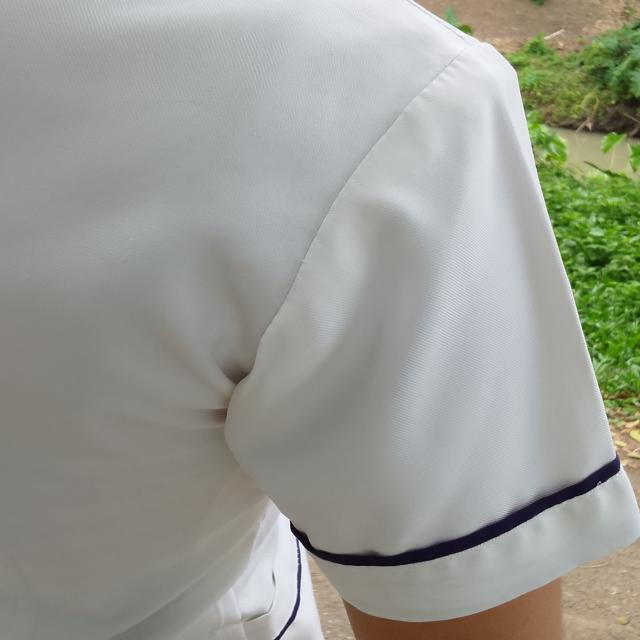education_female_uniform: (12, 5, 640, 636)
